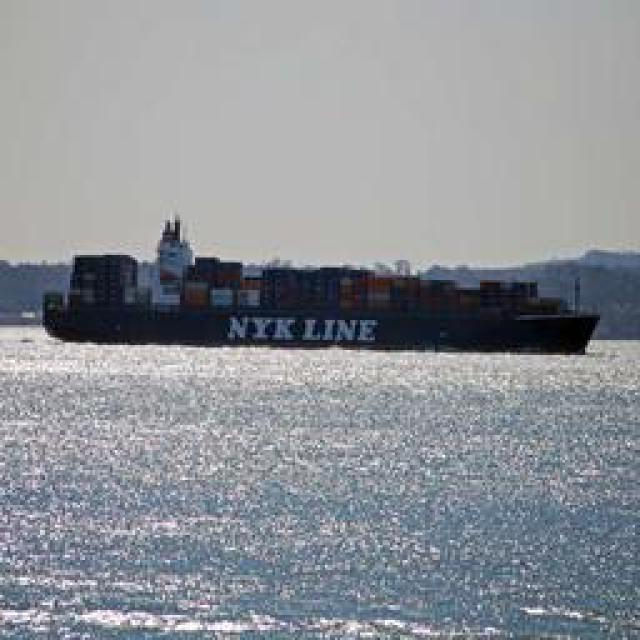Ship: (24, 222, 619, 355)
